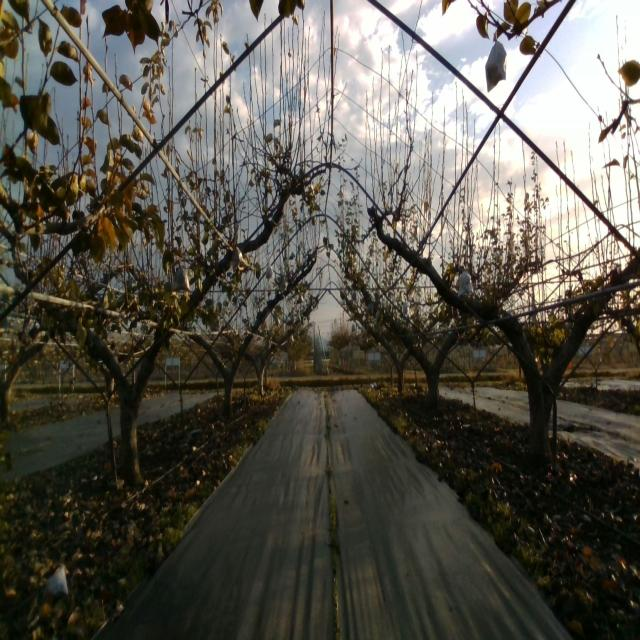pearbags: (485, 32, 506, 92), (170, 264, 191, 292), (458, 268, 474, 297), (230, 245, 244, 271)
